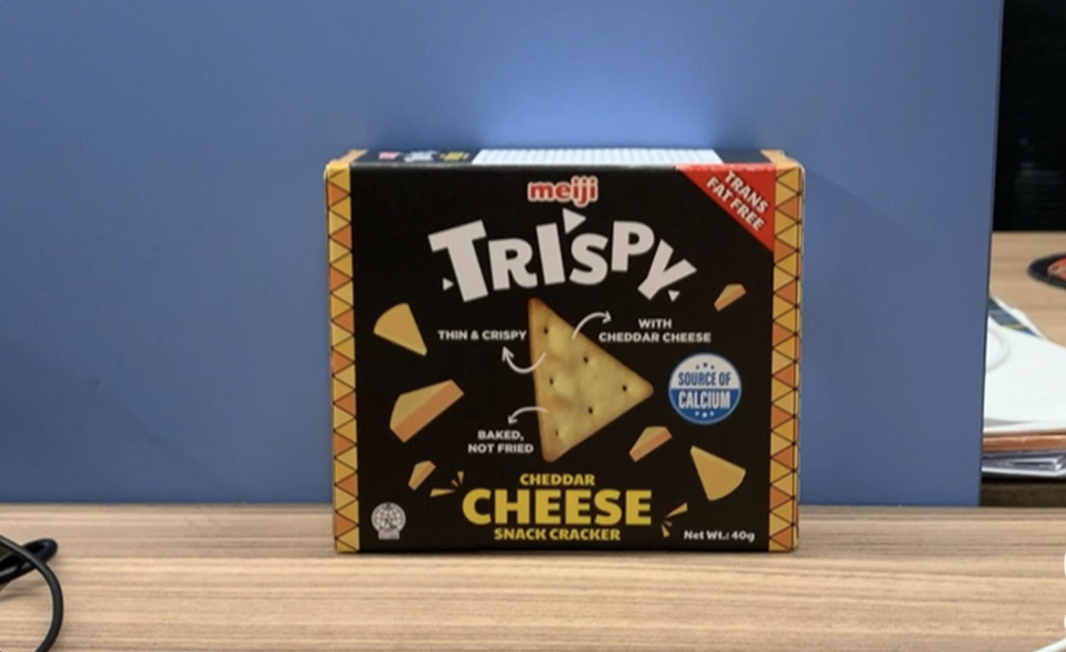crackers_1g-99g: (347, 178, 778, 548)
